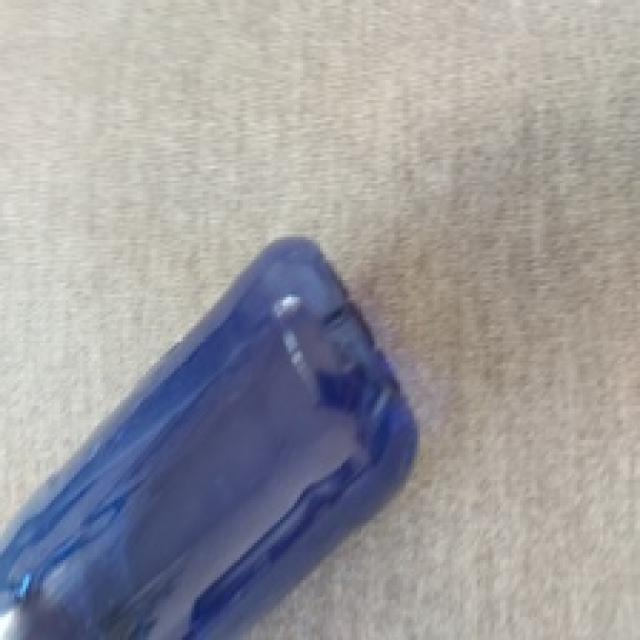Plastic: (0, 233, 419, 640)
